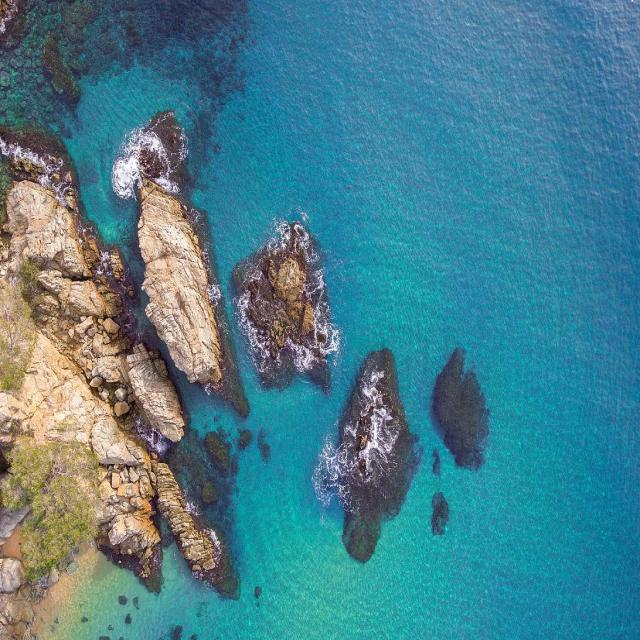reef: (0, 161, 179, 640), (73, 87, 200, 409), (325, 317, 439, 548), (223, 195, 345, 382), (416, 304, 486, 528)
